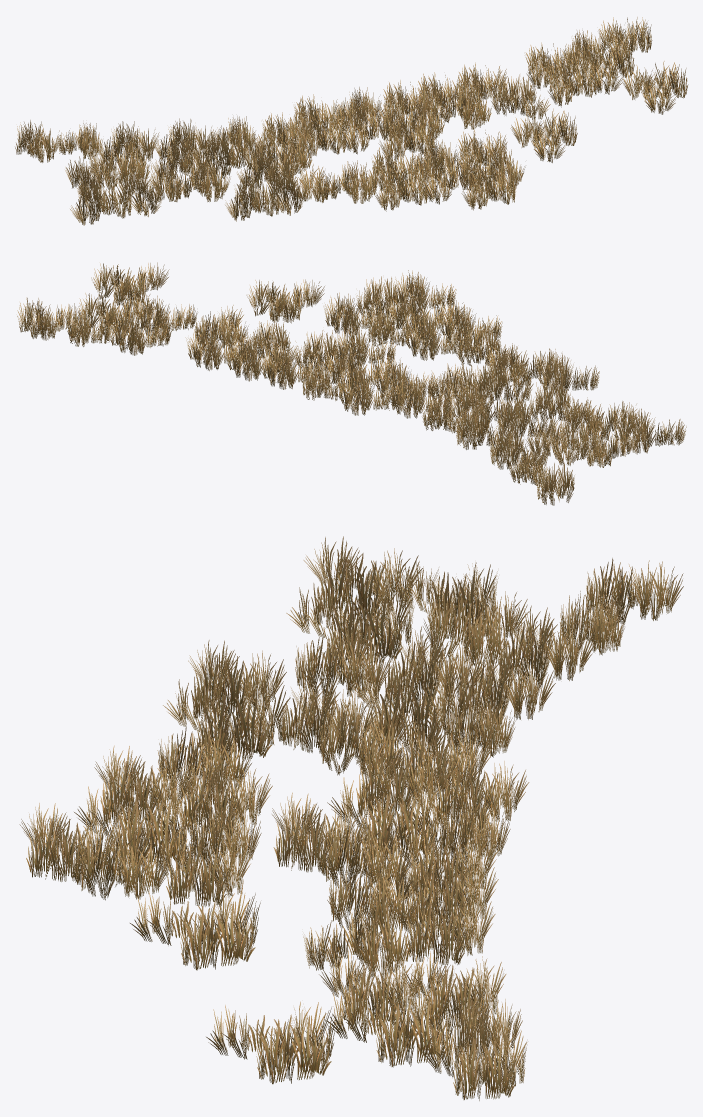
Rendered from caodi_02.fbx.
3 renders of one model, top to bottom at view 1: azimuth 30°, elevation 25°; view 2: azimuth 150°, elevation 25°; view 3: azimuth 270°, elevation 25°, orthographic. The views are drawn at different scales.
Visible parts, largest first — view 1: caodi_02; view 2: caodi_02; view 3: caodi_02.
Part boxes in pixels (x1,y1,x2,y2): caodi_02: (15,17,688,225); caodi_02: (17,262,686,505); caodi_02: (19,536,683,1100).
Bounding box in the file's own units: 5114 × 238 × 2715.
Materials: 1 (1 with a texture image).
